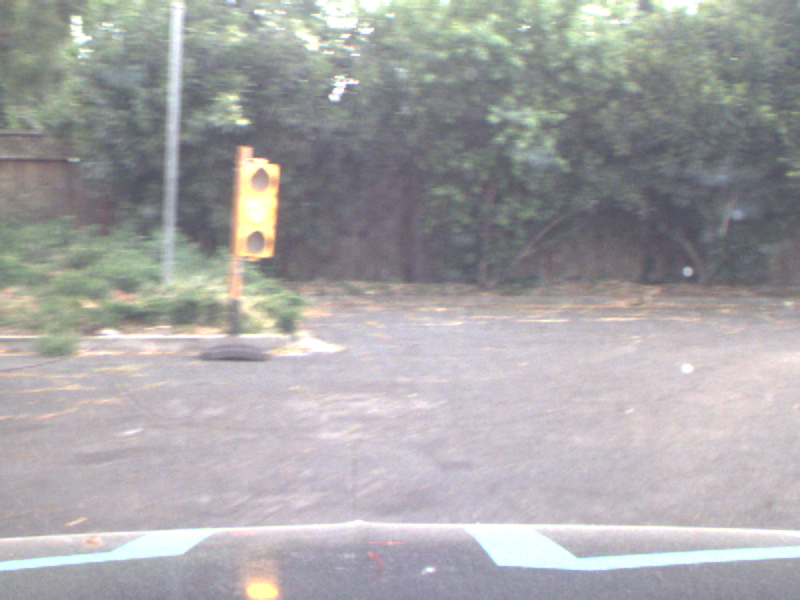Yellow: (235, 161, 275, 256)
